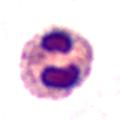eosi: (17, 25, 93, 99)
